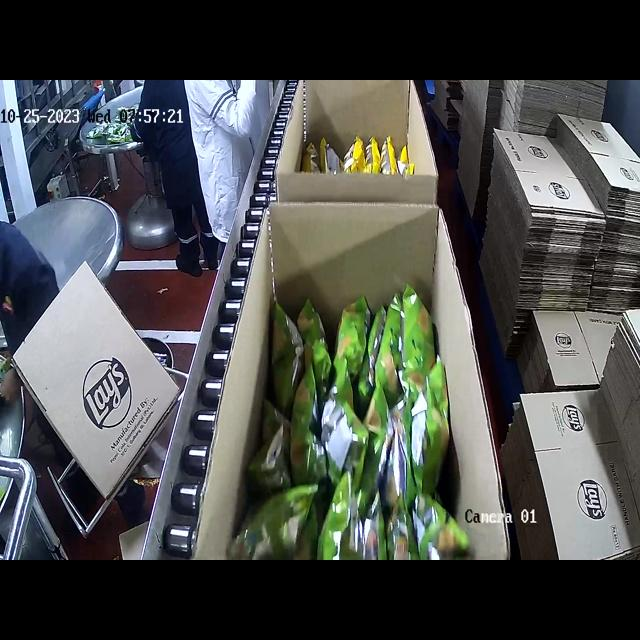salted: (302, 129, 412, 183)
yogurt: (269, 278, 442, 560)
